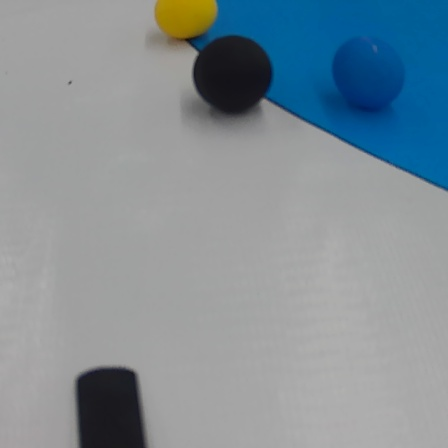black: (194, 38, 270, 115)
blue: (325, 33, 411, 110)
blue_base: (187, 0, 445, 194)
yellow: (153, 0, 217, 41)
